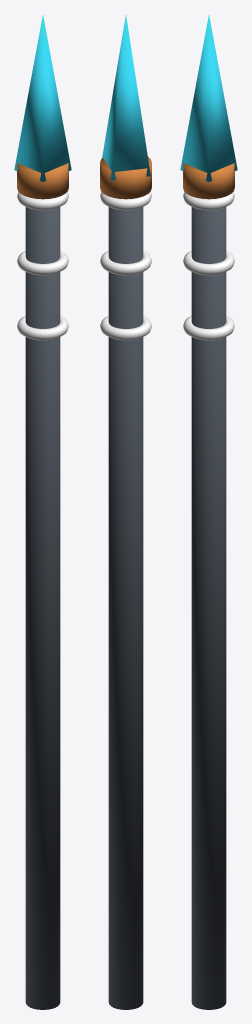
File: lanza_energia.glb
3 views of the same model, side by side, from view 1: azimuth 90°, elevation 25°; view 2: azimuth 150°, elevation 25°; view 3: azimuth 270°, elevation 25° (orthographic).
Parts seen in each view (by area): view 1: lanza_energia_fijo; view 2: lanza_energia_fijo; view 3: lanza_energia_fijo.
Part boxes in pixels (x1=…): lanza_energia_fijo: x1=14, y1=15, x2=71, y2=1009; lanza_energia_fijo: x1=100, y1=15, x2=151, y2=1009; lanza_energia_fijo: x1=180, y1=15, x2=237, y2=1009.
Bounding box in the file's own units: 0.2 × 3.8 × 0.2.
Materials: 2 (2 with a texture image).
